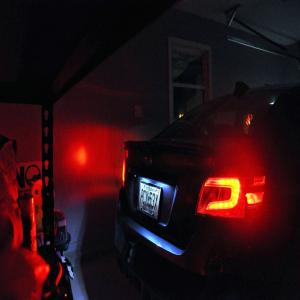Vehicle-registration-plate: (137, 180, 163, 223)
